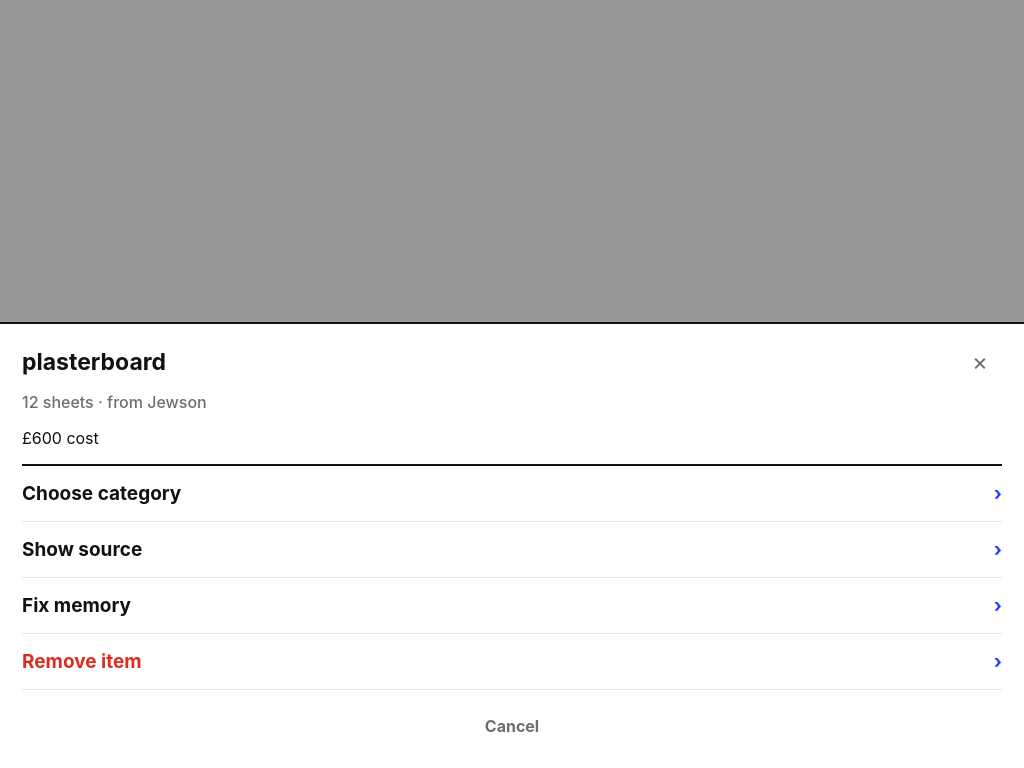
Scenario: ItemActionDrawer — one drawer, push/replace sub-states › Fix memory pushes into an edit form inside the drawer (no navigation), Back returns
Click the button "Fix memory ›".
click(76, 606)  # box [22,578,1002,634]
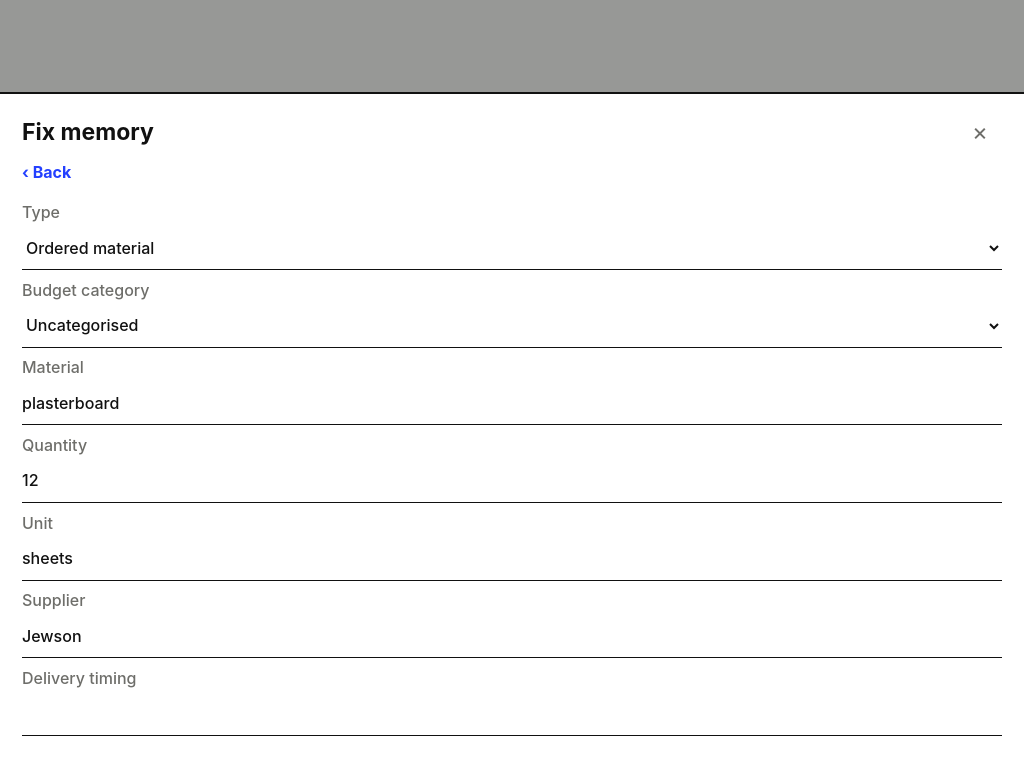
Result: the form named "edit memory" is shown
Click the button "‹ Back".
click(47, 178)  # box [22,162,71,194]
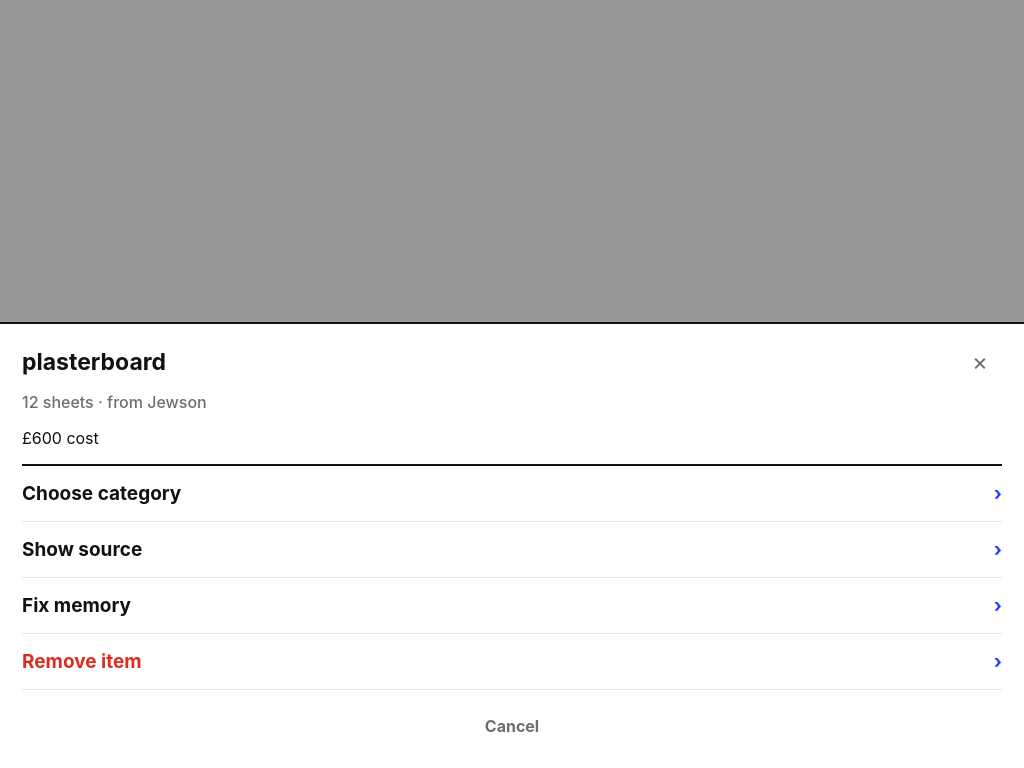
Result: the button "Remove item ›" is shown at [22,634,1002,690]
